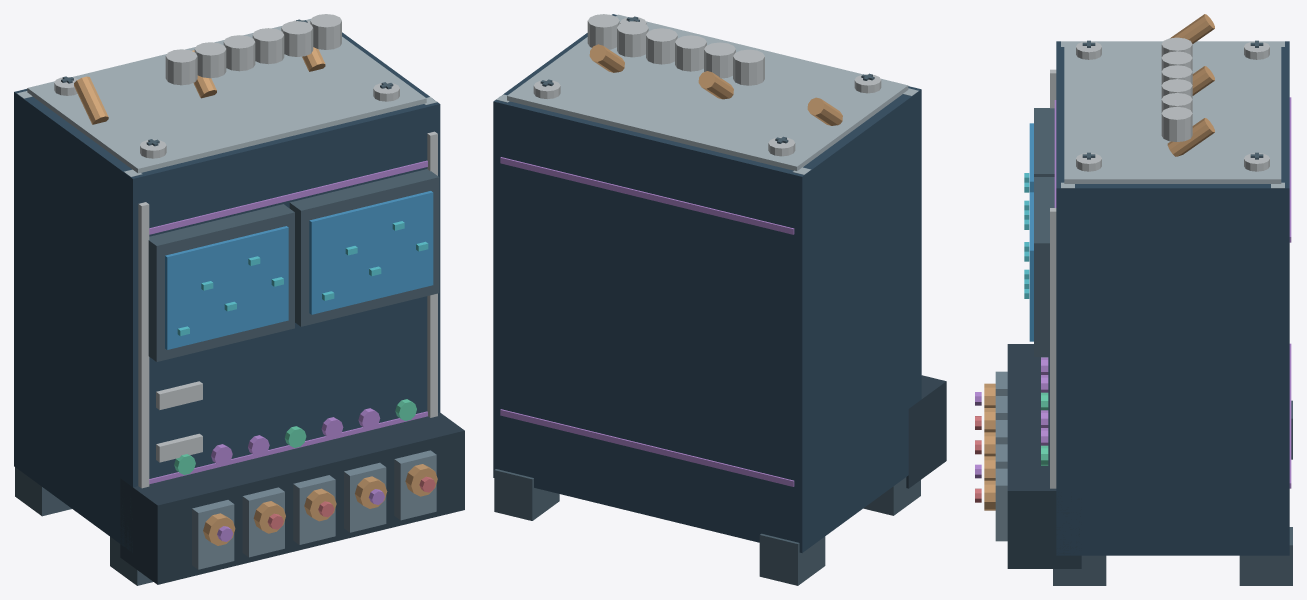
File: 42_L77_PolishingMotorTorqueAnalyzer.glb
3 renders of one model, left to right at view 1: azimuth 30°, elevation 25°; view 2: azimuth 150°, elevation 25°; view 3: azimuth 270°, elevation 25°, orthographic. The views are drawn at different scales.
Visible parts, largest first — view 1: PolishingMotorTorqueAnalyzer_Node_0000, PolishingMotorTorqueAnalyzer_Node_0007, PolishingMotorTorqueAnalyzer_Node_0049, PolishingMotorTorqueAnalyzer_Node_0032, PolishingMotorTorqueAnalyzer_Node_0025, PolishingMotorTorqueAnalyzer_Node_0024, PolishingMotorTorqueAnalyzer_Node_0031, PolishingMotorTorqueAnalyzer_Node_0005, PolishingMotorTorqueAnalyzer_Node_0023, PolishingMotorTorqueAnalyzer_Node_0053, PolishingMotorTorqueAnalyzer_Node_0062, PolishingMotorTorqueAnalyzer_Node_0056 (+20 smaller); view 2: PolishingMotorTorqueAnalyzer_Node_0000, PolishingMotorTorqueAnalyzer_Node_0007, PolishingMotorTorqueAnalyzer_Node_0049, PolishingMotorTorqueAnalyzer_Node_0045, PolishingMotorTorqueAnalyzer_Node_0047, PolishingMotorTorqueAnalyzer_Node_0020, PolishingMotorTorqueAnalyzer_Node_0022, PolishingMotorTorqueAnalyzer_Node_0046, PolishingMotorTorqueAnalyzer_Node_0073, PolishingMotorTorqueAnalyzer_Node_0077, PolishingMotorTorqueAnalyzer_Node_0075, PolishingMotorTorqueAnalyzer_Node_0076 (+5 smaller); view 3: PolishingMotorTorqueAnalyzer_Node_0000, PolishingMotorTorqueAnalyzer_Node_0007, PolishingMotorTorqueAnalyzer_Node_0049, PolishingMotorTorqueAnalyzer_Node_0031, PolishingMotorTorqueAnalyzer_Node_0006, PolishingMotorTorqueAnalyzer_Node_0047, PolishingMotorTorqueAnalyzer_Node_0024, PolishingMotorTorqueAnalyzer_Node_0048, PolishingMotorTorqueAnalyzer_Node_0078, PolishingMotorTorqueAnalyzer_Node_0062, PolishingMotorTorqueAnalyzer_Node_0032, PolishingMotorTorqueAnalyzer_Node_0072 (+9 smaller).
Part boxes in pixels (left/top/right/bottom): PolishingMotorTorqueAnalyzer_Node_0000: left=14, top=32, right=440, bottom=552; PolishingMotorTorqueAnalyzer_Node_0007: left=27, top=18, right=426, bottom=173; PolishingMotorTorqueAnalyzer_Node_0049: left=120, top=412, right=464, bottom=584; PolishingMotorTorqueAnalyzer_Node_0032: left=309, top=191, right=433, bottom=314; PolishingMotorTorqueAnalyzer_Node_0025: left=165, top=226, right=288, bottom=349; PolishingMotorTorqueAnalyzer_Node_0024: left=148, top=204, right=294, bottom=361; PolishingMotorTorqueAnalyzer_Node_0031: left=289, top=169, right=439, bottom=326; PolishingMotorTorqueAnalyzer_Node_0005: left=138, top=202, right=149, bottom=488; PolishingMotorTorqueAnalyzer_Node_0023: left=149, top=160, right=427, bottom=234; PolishingMotorTorqueAnalyzer_Node_0053: left=242, top=487, right=284, bottom=557; PolishingMotorTorqueAnalyzer_Node_0062: left=394, top=450, right=436, bottom=520; PolishingMotorTorqueAnalyzer_Node_0056: left=293, top=475, right=335, bottom=544; PolishingMotorTorqueAnalyzer_Node_0000: left=493, top=14, right=921, bottom=552; PolishingMotorTorqueAnalyzer_Node_0007: left=507, top=14, right=908, bottom=170; PolishingMotorTorqueAnalyzer_Node_0049: left=906, top=375, right=946, bottom=488; PolishingMotorTorqueAnalyzer_Node_0045: left=759, top=533, right=825, bottom=585; PolishingMotorTorqueAnalyzer_Node_0047: left=494, top=469, right=559, bottom=520; PolishingMotorTorqueAnalyzer_Node_0020: left=500, top=409, right=794, bottom=486; PolishingMotorTorqueAnalyzer_Node_0022: left=500, top=157, right=794, bottom=234; PolishingMotorTorqueAnalyzer_Node_0046: left=863, top=477, right=920, bottom=515; PolishingMotorTorqueAnalyzer_Node_0073: left=733, top=49, right=764, bottom=85; PolishingMotorTorqueAnalyzer_Node_0077: left=617, top=21, right=648, bottom=57; PolishingMotorTorqueAnalyzer_Node_0075: left=675, top=35, right=706, bottom=71; PolishingMotorTorqueAnalyzer_Node_0076: left=646, top=28, right=677, bottom=64; PolishingMotorTorqueAnalyzer_Node_0000: left=1056, top=41, right=1289, bottom=555; PolishingMotorTorqueAnalyzer_Node_0007: left=1064, top=41, right=1281, bottom=183; PolishingMotorTorqueAnalyzer_Node_0049: left=1007, top=344, right=1081, bottom=568; PolishingMotorTorqueAnalyzer_Node_0031: left=1034, top=177, right=1054, bottom=356; PolishingMotorTorqueAnalyzer_Node_0006: left=1050, top=208, right=1056, bottom=488; PolishingMotorTorqueAnalyzer_Node_0047: left=1239, top=527, right=1292, bottom=585; PolishingMotorTorqueAnalyzer_Node_0024: left=1034, top=108, right=1054, bottom=176; PolishingMotorTorqueAnalyzer_Node_0048: left=1053, top=555, right=1106, bottom=585; PolishingMotorTorqueAnalyzer_Node_0078: left=1161, top=106, right=1192, bottom=141; PolishingMotorTorqueAnalyzer_Node_0062: left=995, top=468, right=1007, bottom=541; PolishingMotorTorqueAnalyzer_Node_0032: left=1029, top=192, right=1033, bottom=341; PolishingMotorTorqueAnalyzer_Node_0072: left=1167, top=118, right=1214, bottom=156.
Size of the model in its own units: 0.85 by 1.21 by 0.7765.
